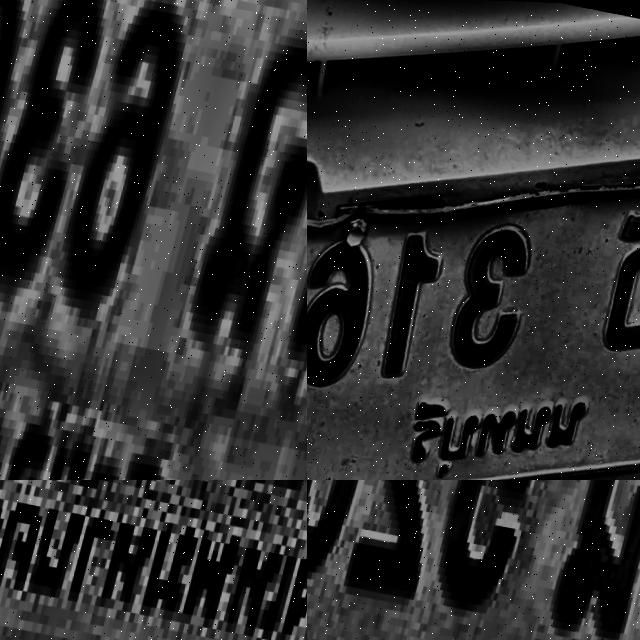license-plate: (307, 17, 640, 480), (0, 0, 307, 480), (307, 480, 640, 640), (0, 480, 307, 640)
